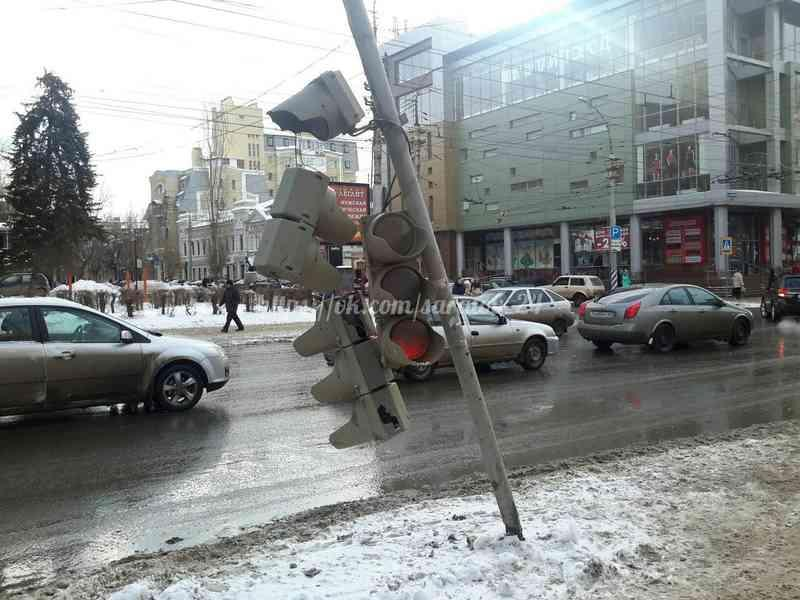off traffic light: (296, 97, 521, 539), (257, 169, 350, 316), (268, 71, 363, 140)
